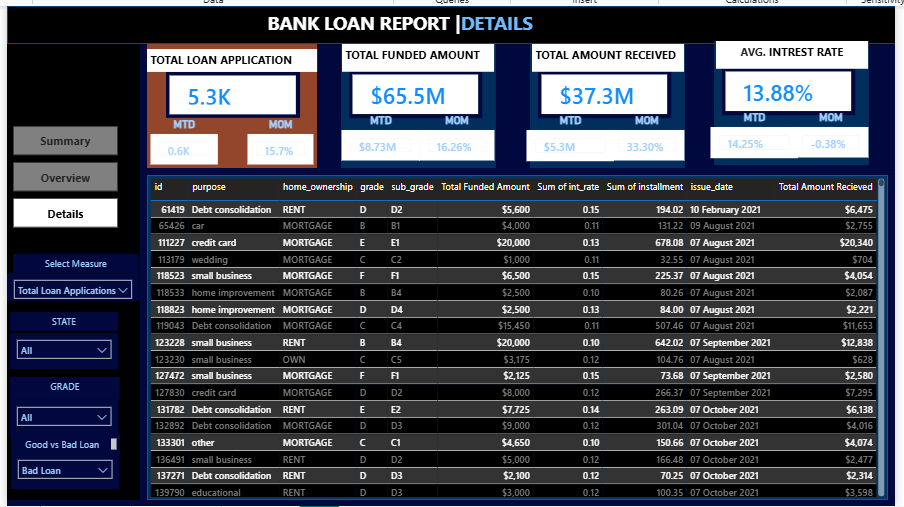

What the dashboard file says about the page in this screenshot:
{"tool":"powerbi","page":{"name":"Details","canvas":[1280,720],"ordinal":2},"visuals":[{"type":"shape","box":[0,46.1,191.5,665.3],"z":0},{"type":"actionButton","box":[0,0,100,40],"z":1000},{"type":"shape","box":[1018.2,50.4,223.2,178.6],"z":1000,"group":"g4"},{"type":"shape","box":[201.6,54.7,244.8,178.6],"z":1000,"group":"g1"},{"type":"shape","box":[480.4,54.7,223.2,178.6],"z":1000,"group":"g2"},{"type":"shape","box":[753.2,54.7,223.2,178.6],"z":1000,"group":"g3"},{"type":"slicer","fields":{"Values":["financial_loan.address_state"]},"box":[4.3,470.8,155.5,51.8],"z":1000,"group":"g6"},{"type":"shape","box":[0,0,1280.2,54.7],"z":2000},{"type":"textbox","box":[370.1,0,447.8,51.8],"z":3000},{"type":"group","id":"g1","title":"Group 1","box":[201.6,54.7,244.8,178.6],"z":4000},{"type":"group","id":"g2","title":"Group 1","box":[476.6,54.7,230.4,178.6],"z":5000},{"type":"cardVisual","fields":{"Data":["financial_loan.Avg. intrest rate"]},"box":[1030,89.7,191.5,67.7],"z":5000,"group":"g4"},{"type":"cardVisual","fields":{"Data":["financial_loan.Total Funded Amount"]},"box":[492.2,94,191.5,67.7],"z":5000,"group":"g2"},{"type":"cardVisual","fields":{"Data":["financial_loan.Total Amount Recieved"]},"box":[765,94,191.5,67.7],"z":5000,"group":"g3"},{"type":"cardVisual","fields":{"Data":["financial_loan.Total Loan Applications"]},"box":[228.4,95,192.7,66.2],"z":5000,"group":"g1"},{"type":"textbox","box":[1020.3,50.8,218.9,40.3],"z":6000,"group":"g4"},{"type":"group","id":"g3","title":"Group 1","box":[743,54.7,237.6,178.6],"z":6000},{"type":"textbox","box":[482.5,55.1,218.9,40.3],"z":6000,"group":"g2"},{"type":"textbox","box":[755.3,55.1,218.9,40.3],"z":6000,"group":"g3"},{"type":"textbox","box":[201.6,61.9,244.8,33.1],"z":6000,"group":"g1"},{"type":"group","id":"g4","title":"Group 1","box":[1008,50.4,237.6,178.6],"z":7000},{"type":"cardVisual","title":"MTD","fields":{"Data":["financial_loan.MTD Intrest rate"]},"box":[1008,150.7,136.8,73.4],"z":7000,"group":"g4"},{"type":"cardVisual","title":"MTD","fields":{"Data":["financial_loan.MTD Amount Recieved"]},"box":[743,155,136.8,73.4],"z":7000,"group":"g3"},{"type":"cardVisual","title":"MTD","fields":{"Data":["financial_loan.MTD Funded Amount"]},"box":[476.6,155.9,123.8,72],"z":7000,"group":"g2"},{"type":"cardVisual","title":"MTD","fields":{"Data":["financial_loan.MTD Total Loan Applications"]},"box":[201.6,161.3,107.4,72],"z":7000,"group":"g1"},{"type":"cardVisual","title":"MOM","fields":{"Data":["financial_loan.MOM Intrest Rate"]},"box":[1126.9,151.6,118.1,72],"z":8000,"group":"g4"},{"type":"cardVisual","title":"MOM","fields":{"Data":["financial_loan.MOM funded Amount"]},"box":[589,155.9,118.1,72],"z":8000,"group":"g2"},{"type":"cardVisual","title":"MOM","fields":{"Data":["financial_loan.MOM Amount Recieved"]},"box":[861.9,155.9,118.1,72],"z":8000,"group":"g3"},{"type":"cardVisual","title":"MOM","fields":{"Data":["financial_loan.MOM Loan Applications"]},"box":[340.6,161.3,105.8,72],"z":8000,"group":"g1"},{"type":"textbox","box":[8.6,357.1,181.4,27.4],"z":10000},{"type":"group","id":"g5","title":"Group 3","box":[4.3,440.6,158.4,254.9],"z":11000},{"type":"slicer","fields":{"Values":["Select Measure.Select Measure"]},"box":[0,384.5,190.1,40.3],"z":13000},{"type":"shape","box":[201.6,243.4,1067,468],"z":13001},{"type":"tableEx","fields":{"Values":["financial_loan.id","financial_loan.purpose","financial_loan.home_ownership","financial_loan.grade","financial_loan.sub_grade","financial_loan.Total Funded Amount","Sum(financial_loan.int_rate)","Sum(financial_loan.installment)","financial_loan.issue_date","financial_loan.Total Amount Recieved"]},"box":[201.6,243.4,1067,468],"z":13002},{"type":"pageNavigator","box":[8.6,172.8,151.2,148.3],"z":13003},{"type":"textbox","box":[4.3,440.6,155.5,27.4],"z":20000,"group":"g6"},{"type":"slicer","fields":{"Values":["financial_loan.grade"]},"box":[4.3,567.3,155.5,51.8],"z":21000,"group":"g6"},{"type":"textbox","box":[4.3,534.2,158.4,33.1],"z":22000,"group":"g6"},{"type":"textbox","box":[5.7,617.7,157,25.9],"z":23000,"group":"g5"},{"type":"slicer","fields":{"Values":["financial_loan.Good vs Bad Loan"]},"box":[5.7,643.6,155.5,51.8],"z":24000,"group":"g6"},{"type":"group","id":"g6","title":"Group 2","box":[4.3,440.6,158.4,254.9],"z":24001,"group":"g5"}]}

Visuals, with their boxes on the page's 1280x720 design canvas (x1, y1, x2, y2). These are canvas units, not pixel positions in the 904x507 screenshot, which may show the page scaled, cropped or inside an application window:
shape: left=0, top=46, right=192, bottom=711
actionButton: left=0, top=0, right=100, bottom=40
shape: left=1018, top=50, right=1241, bottom=229
shape: left=202, top=55, right=446, bottom=233
shape: left=480, top=55, right=704, bottom=233
shape: left=753, top=55, right=976, bottom=233
slicer - financial_loan.address_state: left=4, top=471, right=160, bottom=523
shape: left=0, top=0, right=1280, bottom=55
textbox: left=370, top=0, right=818, bottom=52
"Group 1" group: left=202, top=55, right=446, bottom=233
"Group 1" group: left=477, top=55, right=707, bottom=233
cardVisual - financial_loan.Avg. intrest rate: left=1030, top=90, right=1222, bottom=157
cardVisual - financial_loan.Total Funded Amount: left=492, top=94, right=684, bottom=162
cardVisual - financial_loan.Total Amount Recieved: left=765, top=94, right=956, bottom=162
cardVisual - financial_loan.Total Loan Applications: left=228, top=95, right=421, bottom=161
textbox: left=1020, top=51, right=1239, bottom=91
"Group 1" group: left=743, top=55, right=981, bottom=233
textbox: left=482, top=55, right=701, bottom=95
textbox: left=755, top=55, right=974, bottom=95
textbox: left=202, top=62, right=446, bottom=95
"Group 1" group: left=1008, top=50, right=1246, bottom=229
"MTD" cardVisual: left=1008, top=151, right=1145, bottom=224
"MTD" cardVisual: left=743, top=155, right=880, bottom=228
"MTD" cardVisual: left=477, top=156, right=600, bottom=228
"MTD" cardVisual: left=202, top=161, right=309, bottom=233
"MOM" cardVisual: left=1127, top=152, right=1245, bottom=224
"MOM" cardVisual: left=589, top=156, right=707, bottom=228
"MOM" cardVisual: left=862, top=156, right=980, bottom=228
"MOM" cardVisual: left=341, top=161, right=446, bottom=233
textbox: left=9, top=357, right=190, bottom=384
"Group 3" group: left=4, top=441, right=163, bottom=696
slicer - Select Measure.Select Measure: left=0, top=384, right=190, bottom=425
shape: left=202, top=243, right=1269, bottom=711
tableEx - financial_loan.id x financial_loan.purpose: left=202, top=243, right=1269, bottom=711
pageNavigator: left=9, top=173, right=160, bottom=321
textbox: left=4, top=441, right=160, bottom=468
slicer - financial_loan.grade: left=4, top=567, right=160, bottom=619
textbox: left=4, top=534, right=163, bottom=567
textbox: left=6, top=618, right=163, bottom=644
slicer - financial_loan.Good vs Bad Loan: left=6, top=644, right=161, bottom=695
"Group 2" group: left=4, top=441, right=163, bottom=696
